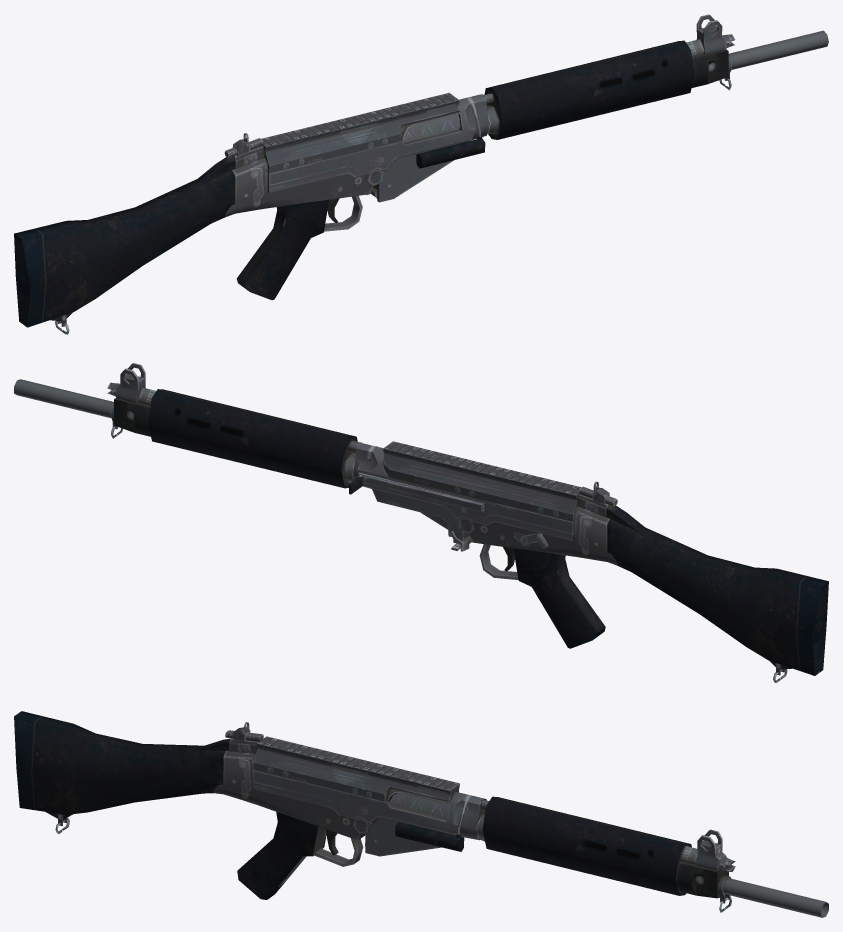
File: ST_WEP_SLR_Lod.FBX
3 renders of one model, top to bottom at view 1: azimuth 30°, elevation 25°; view 2: azimuth 150°, elevation 25°; view 3: azimuth 330°, elevation 25°, orthographic.
Parts seen in each view (by area): view 1: ST_WEP_SLR_Lod; view 2: ST_WEP_SLR_Lod; view 3: ST_WEP_SLR_Lod.
Boxes of the visible parts, box(x1,y1,x2,y2) form: ST_WEP_SLR_Lod: box(14, 14, 828, 334); ST_WEP_SLR_Lod: box(14, 363, 828, 682); ST_WEP_SLR_Lod: box(14, 711, 828, 917).
Bounding box in the file's own units: 96.21 × 19.44 × 7.75.
1 material, 1 textured.
